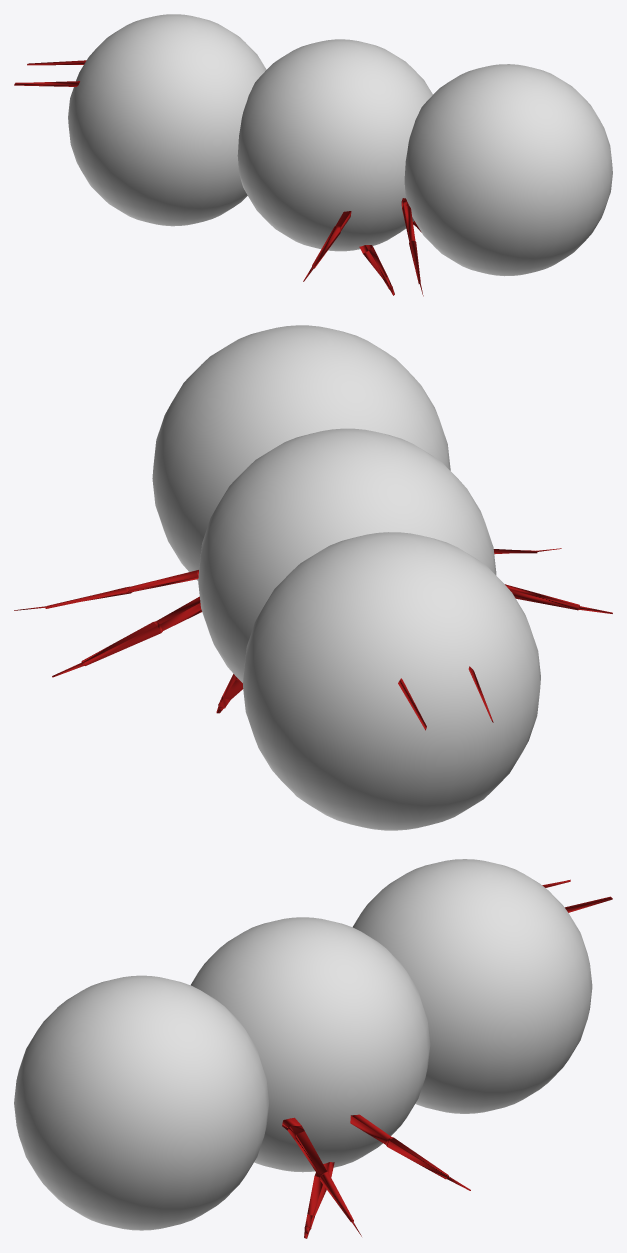
The model's file is mrowka_01.FBX.
3 renders of one model, top to bottom at view 1: azimuth 30°, elevation 25°; view 2: azimuth 150°, elevation 25°; view 3: azimuth 270°, elevation 25°, orthographic. The views are drawn at different scales.
Parts seen in each view (by area): view 1: BoundingSphere006, BoundingSphere005, BoundingSphere4, Box001; view 2: BoundingSphere005, BoundingSphere4, BoundingSphere006, Box001; view 3: BoundingSphere006, BoundingSphere005, BoundingSphere4, Box001.
Boxes of the visible parts, x1,y1,x2,y2 form: BoundingSphere006: [404, 64, 612, 276]; BoundingSphere005: [68, 14, 266, 226]; BoundingSphere4: [237, 39, 432, 251]; Box001: [14, 60, 423, 296]; BoundingSphere005: [243, 532, 540, 830]; BoundingSphere4: [198, 428, 496, 682]; BoundingSphere006: [152, 325, 450, 580]; Box001: [14, 548, 612, 730]; BoundingSphere006: [14, 975, 268, 1230]; BoundingSphere005: [353, 859, 592, 1113]; BoundingSphere4: [191, 917, 430, 1172]; Box001: [282, 879, 612, 1238].
Size of the model in its own units: 98.09 by 46.85 by 99.09.
